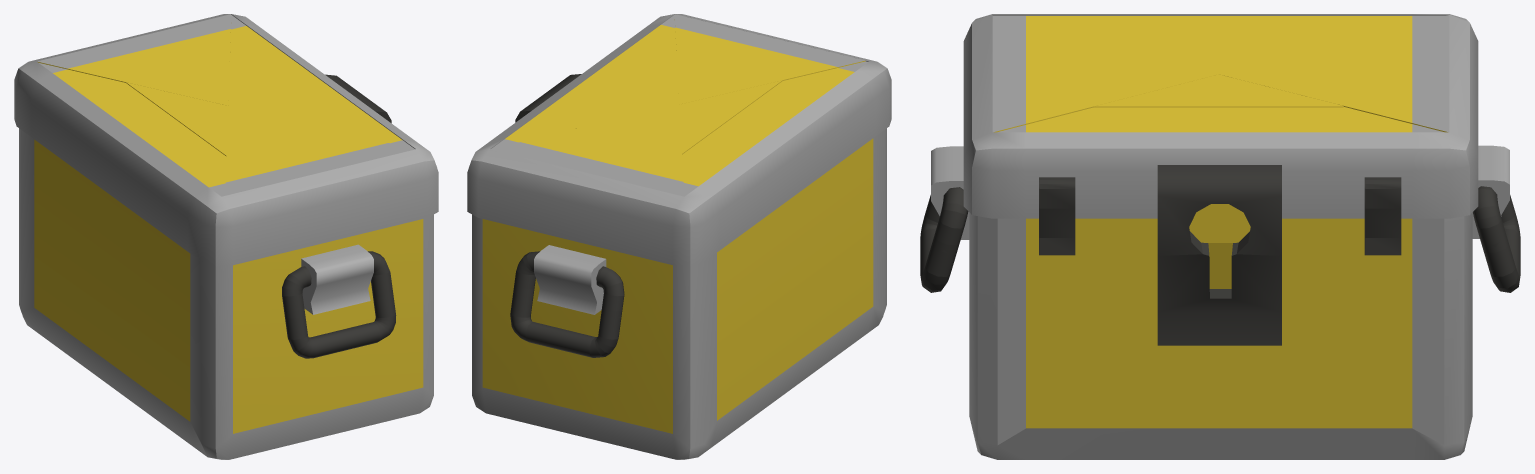
The model's file is boat_2.fbx.
3 renders of one model, left to right at view 1: azimuth 30°, elevation 25°; view 2: azimuth 150°, elevation 25°; view 3: azimuth 270°, elevation 25°, orthographic. The views are drawn at different scales.
Parts seen in each view (by area): view 1: polySurface161; view 2: polySurface161; view 3: polySurface161.
Boxes of the visible parts, x1,y1,x2,y2 form: polySurface161: [14, 14, 438, 459]; polySurface161: [467, 14, 891, 459]; polySurface161: [920, 14, 1520, 459].
Bounding box in the file's own units: 143 × 141 × 234.
